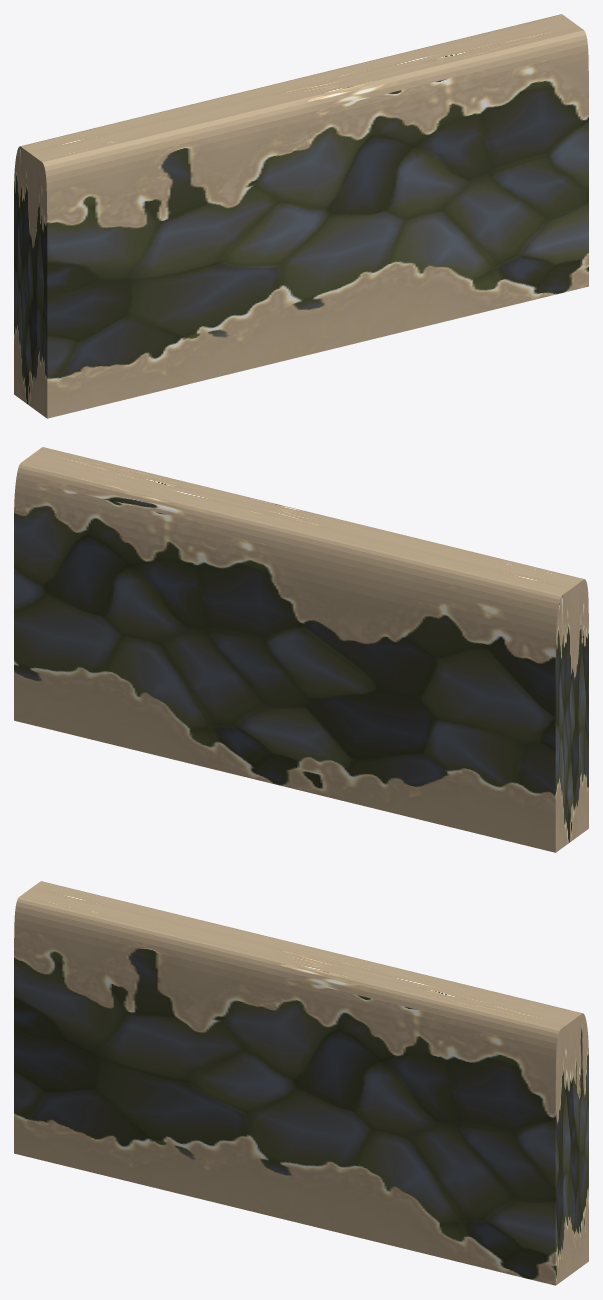
The model's file is wall.fbx.
3 renders of one model, top to bottom at view 1: azimuth 30°, elevation 25°; view 2: azimuth 150°, elevation 25°; view 3: azimuth 330°, elevation 25°, orthographic.
Parts seen in each view (by area): view 1: Cube.001; view 2: Cube.001; view 3: Cube.001.
Boxes of the visible parts, <box> form: Cube.001: <box>14,14,588,418</box>; Cube.001: <box>14,447,588,852</box>; Cube.001: <box>14,881,588,1285</box>.
Size of the model in its own units: 560 by 250 by 59.47.
